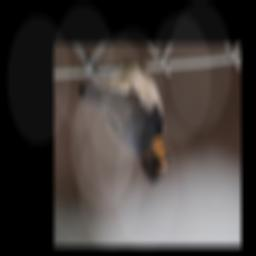Swallow: (77, 54, 171, 185)
